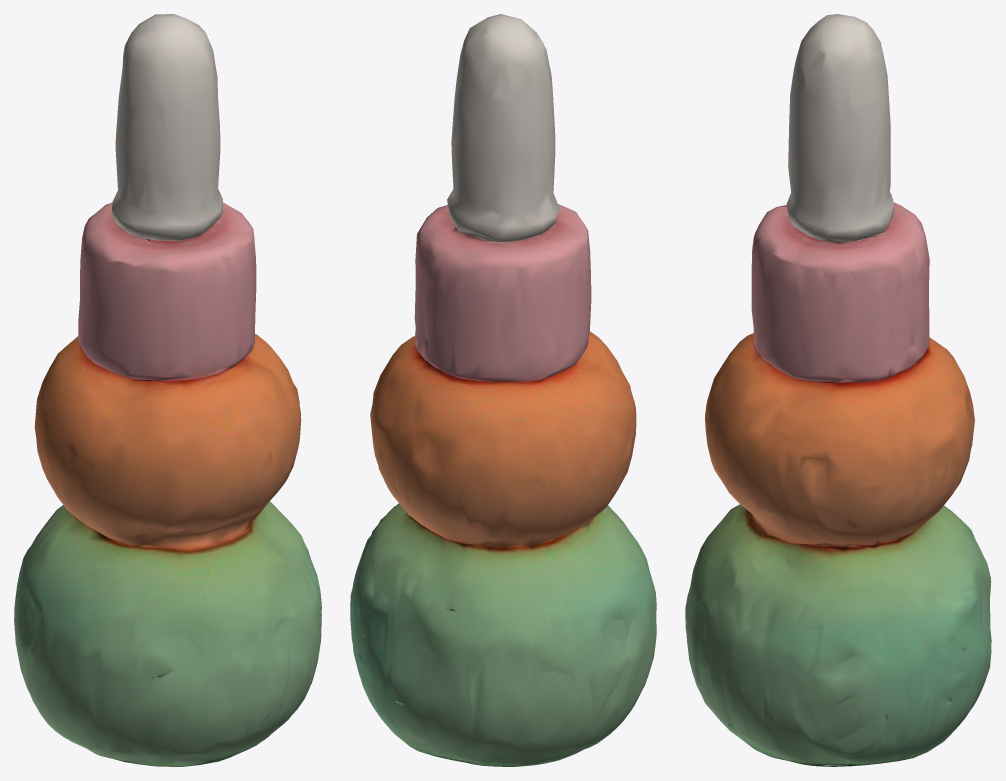
Rendered from perfume.glb.
The picture shows the model from 3 angles, left to right: view 1: azimuth 30°, elevation 25°; view 2: azimuth 150°, elevation 25°; view 3: azimuth 270°, elevation 25°; orthographic projection.
Parts seen in each view (by area): view 1: tripo_node_6cd6484a-9d2f-4418-91a7-abcffae6c009; view 2: tripo_node_6cd6484a-9d2f-4418-91a7-abcffae6c009; view 3: tripo_node_6cd6484a-9d2f-4418-91a7-abcffae6c009.
Part boxes in pixels (box(x1,y1,x2,y2)): tripo_node_6cd6484a-9d2f-4418-91a7-abcffae6c009: box(14, 14, 321, 766); tripo_node_6cd6484a-9d2f-4418-91a7-abcffae6c009: box(350, 14, 656, 766); tripo_node_6cd6484a-9d2f-4418-91a7-abcffae6c009: box(685, 14, 991, 766).
Size of the model in its own units: 0.3995 by 1 by 0.3942.
Materials: 1 (1 with a texture image).
